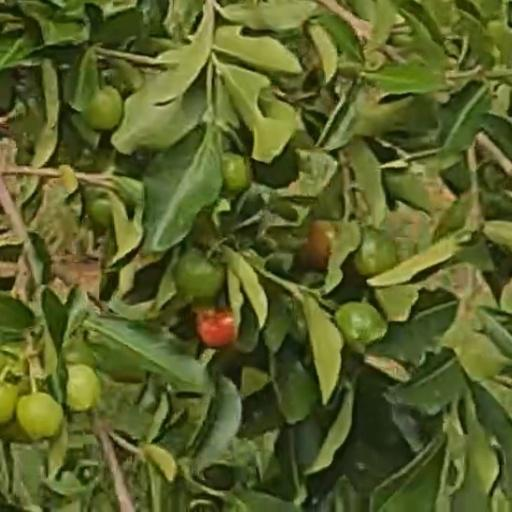acerola: (179, 254, 222, 300), (18, 397, 62, 441), (340, 305, 384, 346), (65, 368, 102, 412), (196, 310, 238, 347), (87, 89, 124, 131), (305, 220, 331, 267), (222, 156, 249, 195)
